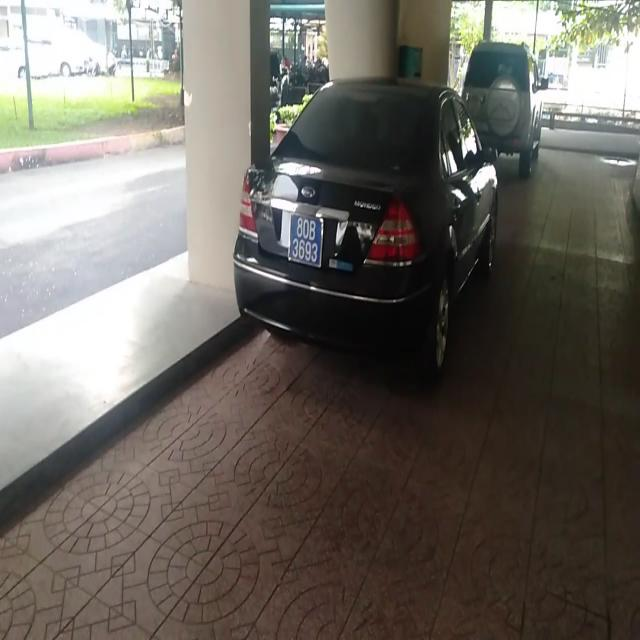bien_xanh: (288, 214, 327, 272)
